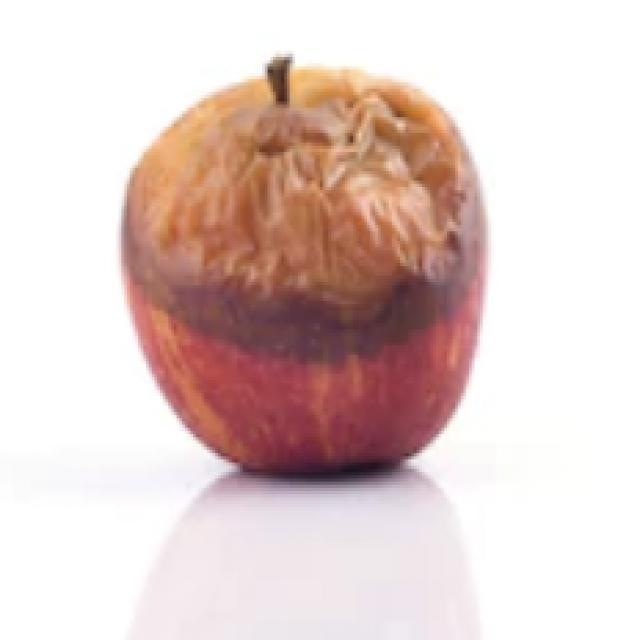Rotten: (100, 72, 518, 498)
